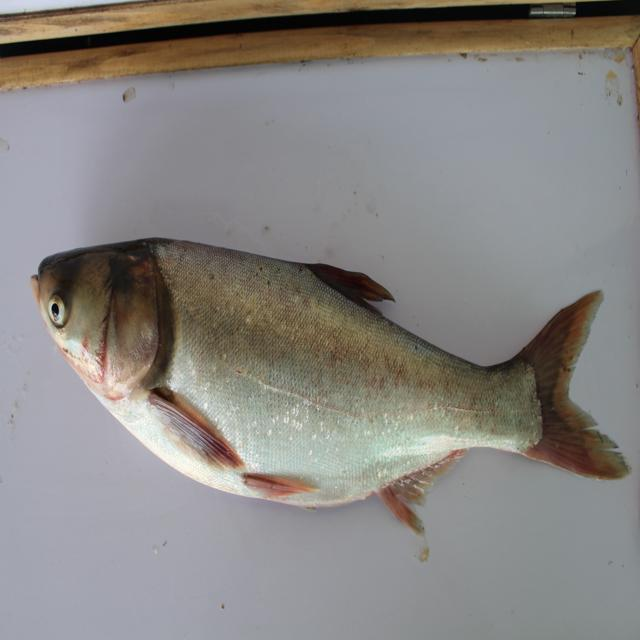SilverCarp: (29, 221, 614, 549)
